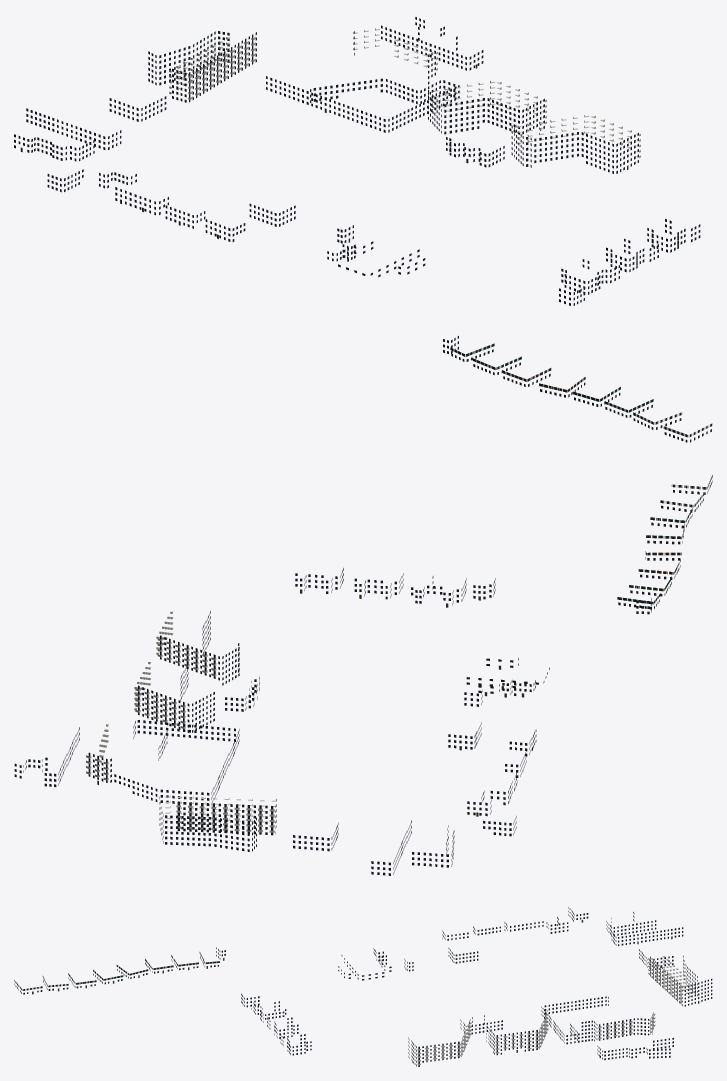
File: facades.glb
3 renders of one model, top to bottom at view 1: azimuth 30°, elevation 25°; view 2: azimuth 150°, elevation 25°; view 3: azimuth 270°, elevation 25°, orthographic. The views are drawn at different scales.
Visible parts, largest first — view 1: T_W2_N1_facades; view 2: T_W2_N1_facades; view 3: T_W2_N1_facades.
Boxes of the visible parts, x1,y1,x2,y2 form: T_W2_N1_facades: [14, 17, 712, 442]; T_W2_N1_facades: [14, 474, 712, 875]; T_W2_N1_facades: [14, 907, 712, 1066].
Bounding box in the file's own units: 272 × 17.4 × 520.
